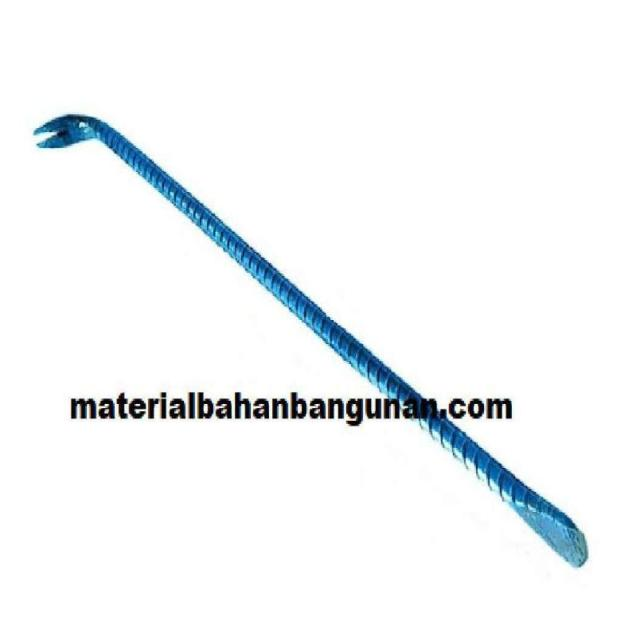Linggis: (35, 113, 591, 566)
